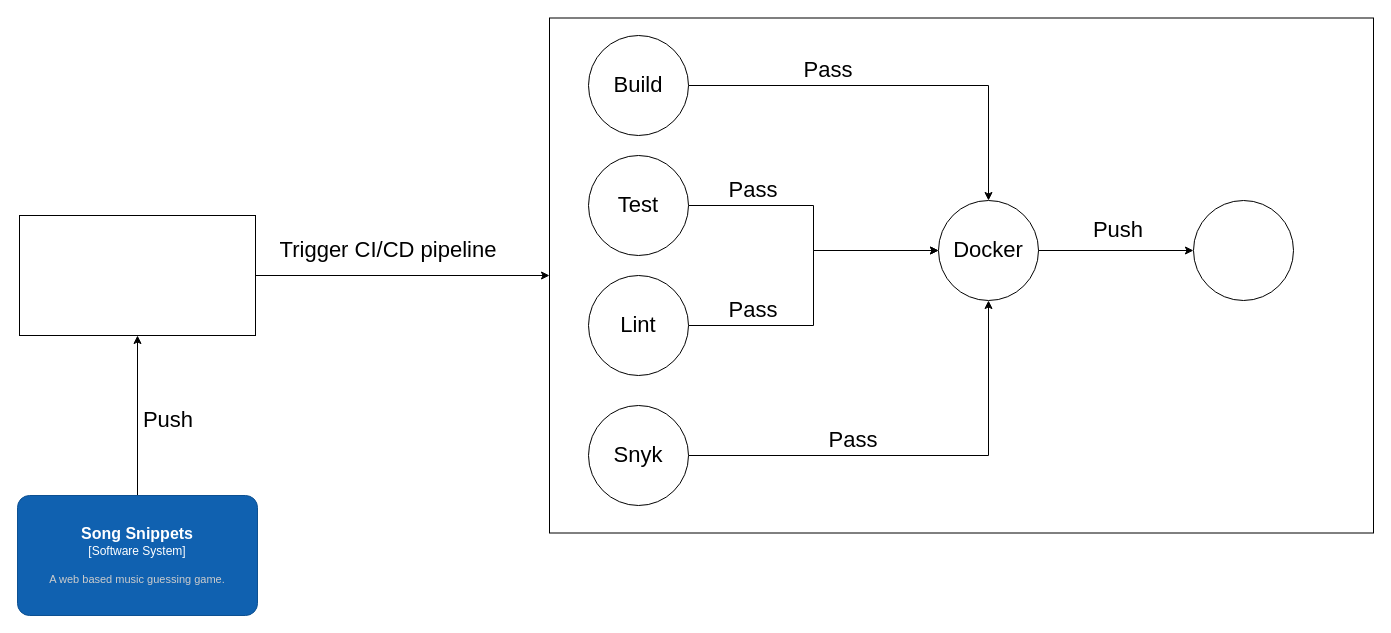
Some shapes in this 1391 by 633 pixel diagram are drawn without their labels. Each missing label, with the centre of its shape:
"Cloud" belongs at (x=1243, y=250).
"Github" belongs at (x=137, y=275).
